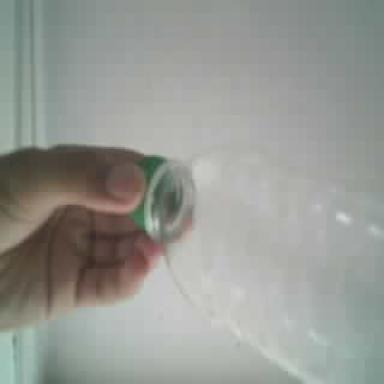bottle: (133, 146, 383, 382)
